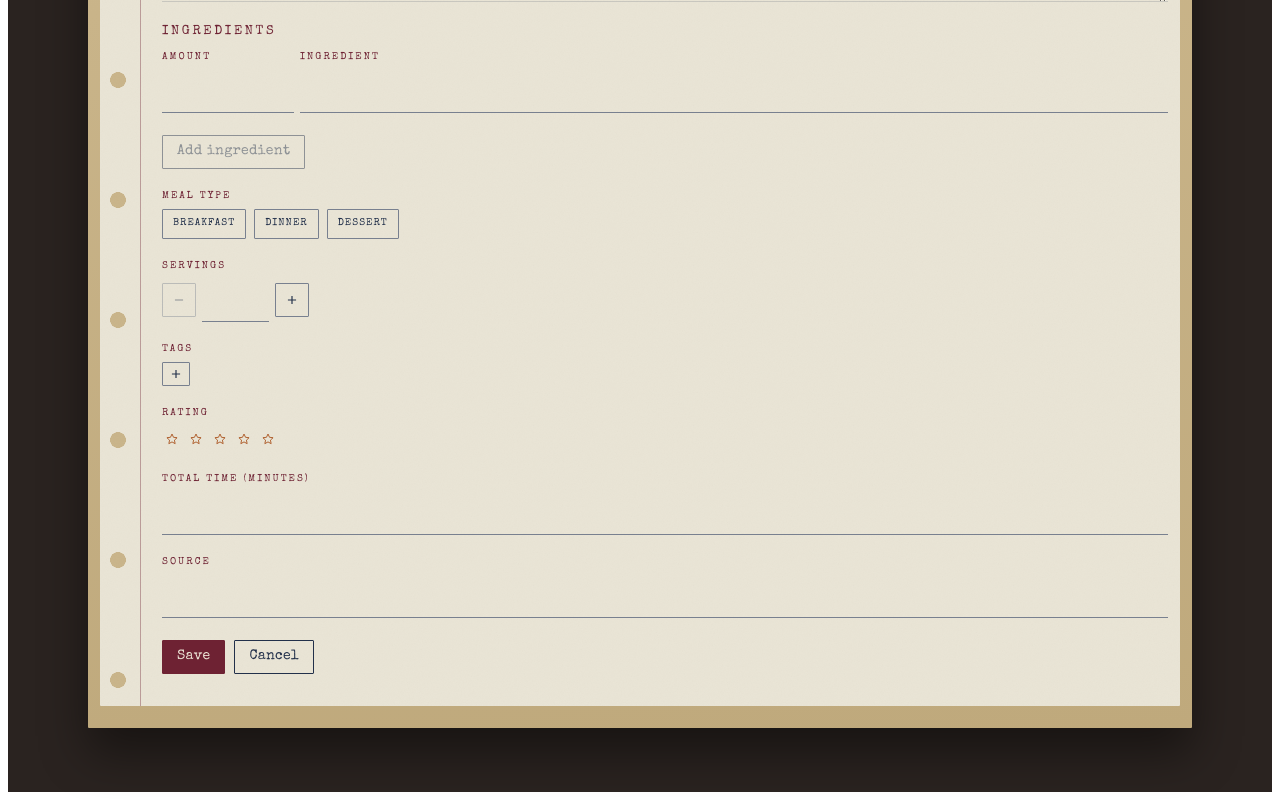
Test: validation at the field, not at save › blocks the save while a field error stands, and frees it once fixed
(page scrolled)
Type "4o" into the field with test id "time" at (665, 513), box [162,492,1168,534]
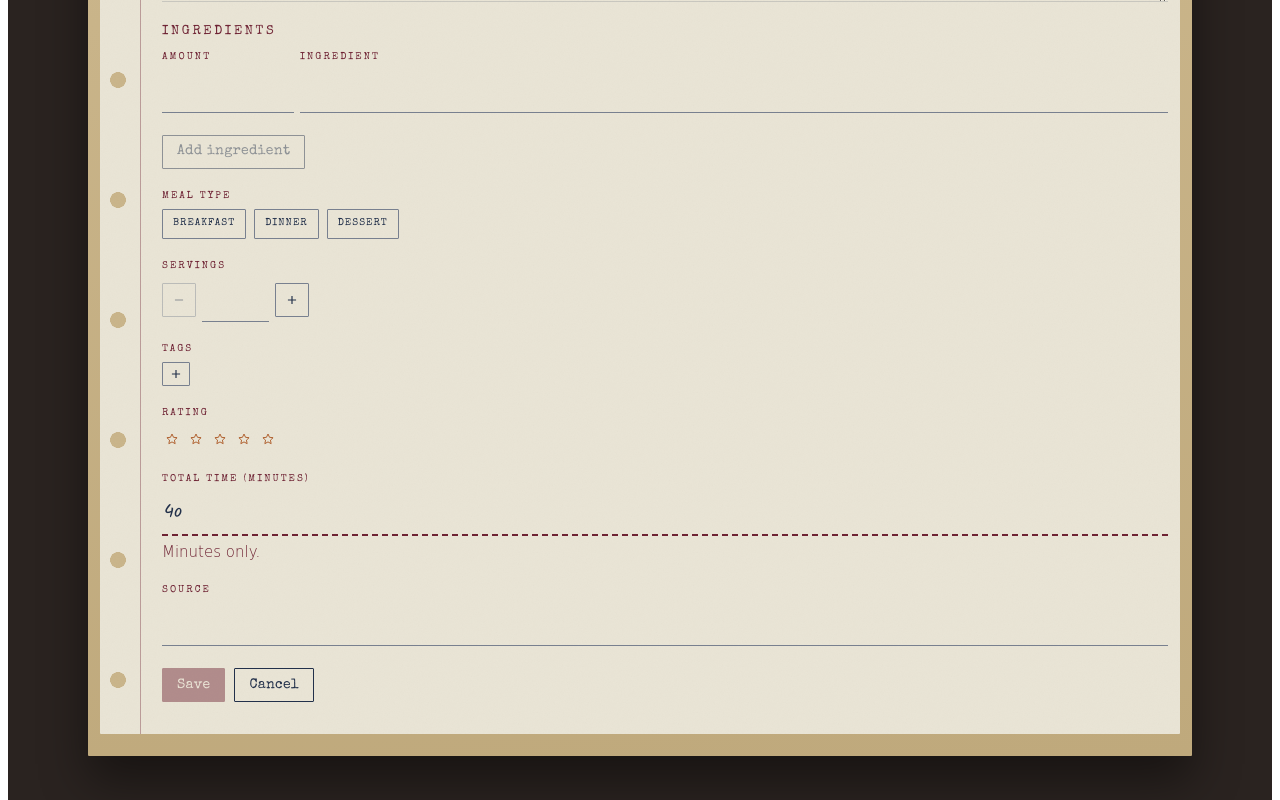
Expected: the button with test id "save" is disabled, [162,668,225,702]
Replace the text in the field with test id "time" with "40" at (665, 514), box [162,492,1168,536]
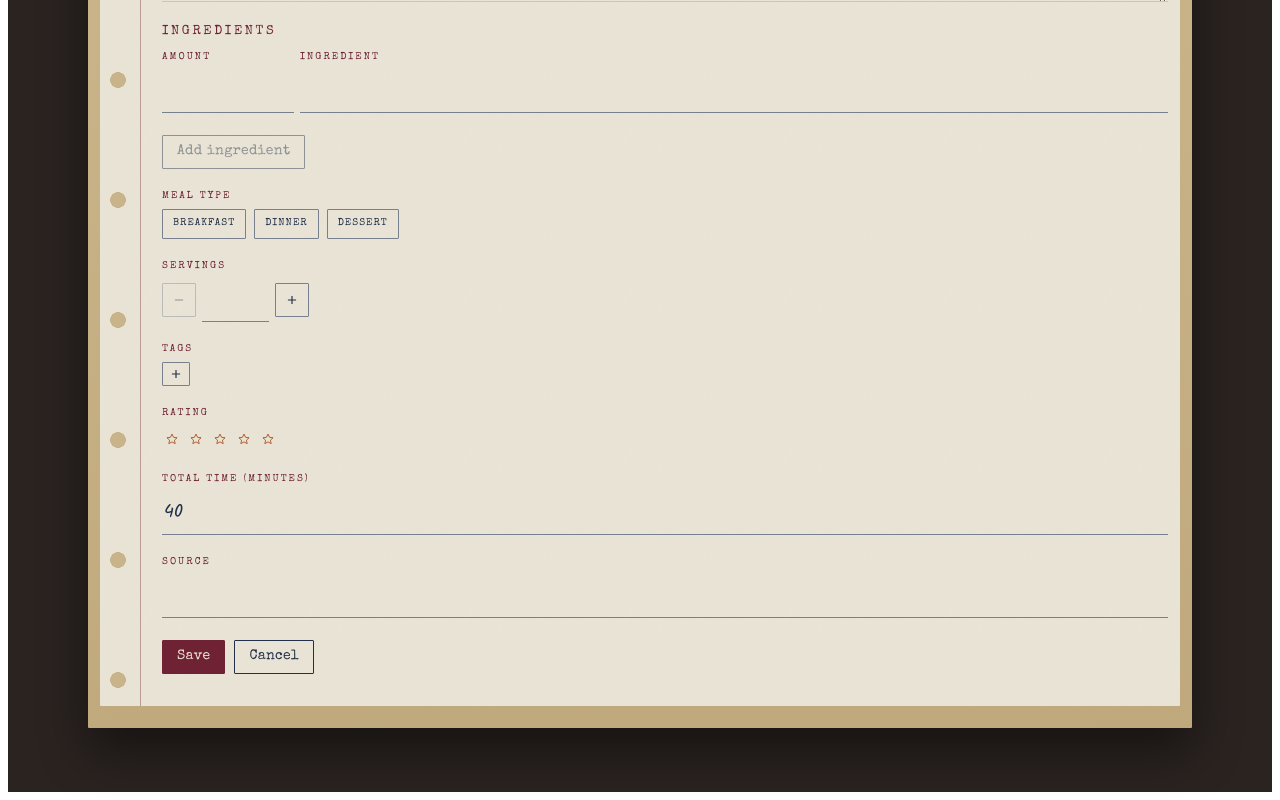
Expected: the button with test id "save" is enabled, [162,640,225,674]
